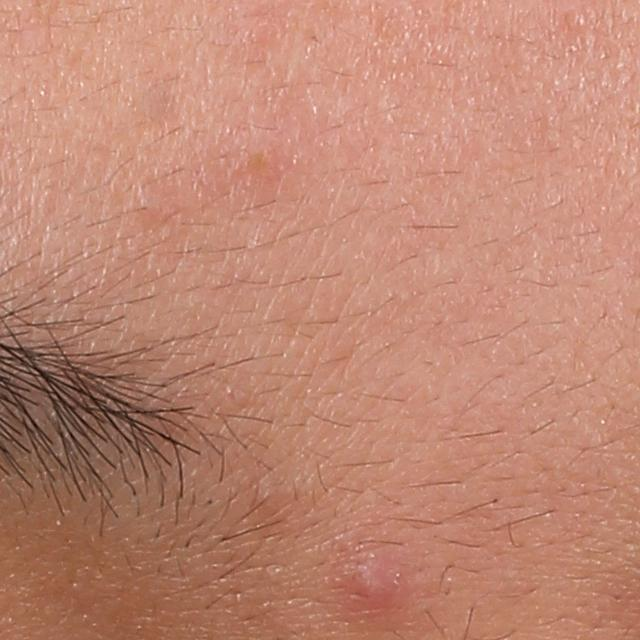papule: (331, 538, 413, 612), (233, 129, 294, 186)
